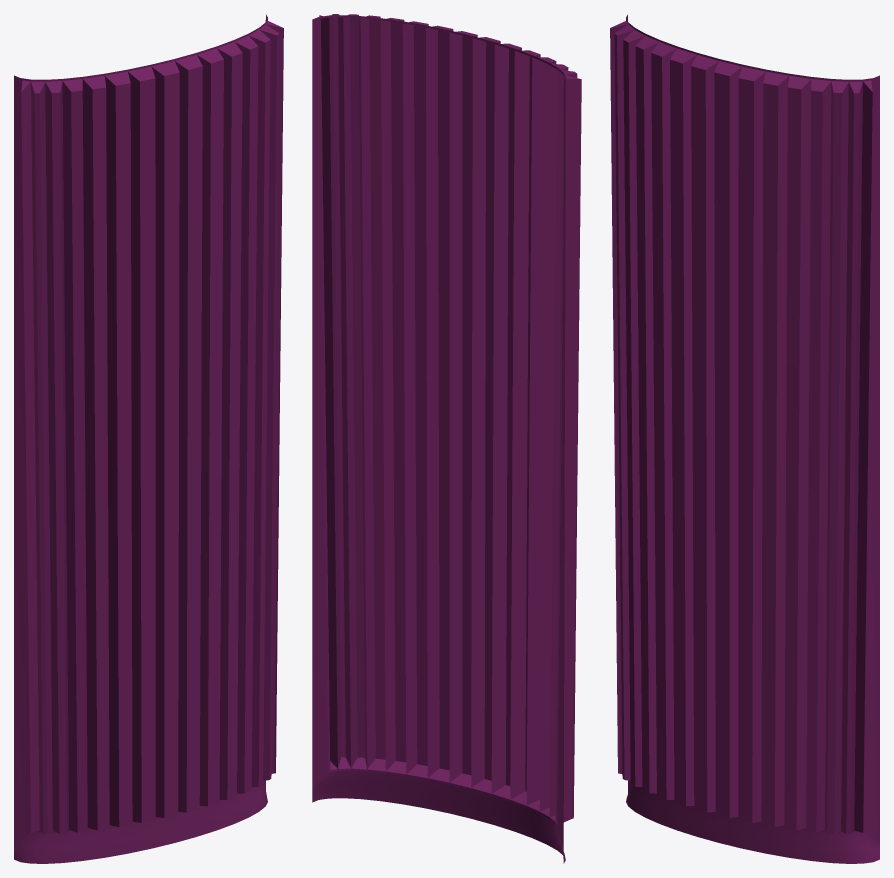
File: Room Seperator Feature.FBX
3 renders of one model, left to right at view 1: azimuth 30°, elevation 25°; view 2: azimuth 150°, elevation 25°; view 3: azimuth 330°, elevation 25°, orthographic.
Visible parts, largest first — view 1: Cylinder109; view 2: Cylinder109; view 3: Cylinder109.
Part boxes in pixels (x1,y1,x2,y2): Cylinder109: (14,14,283,863); Cylinder109: (312,14,581,863); Cylinder109: (610,14,879,863).
Size of the model in its own units: 136 by 388 by 28.76.
